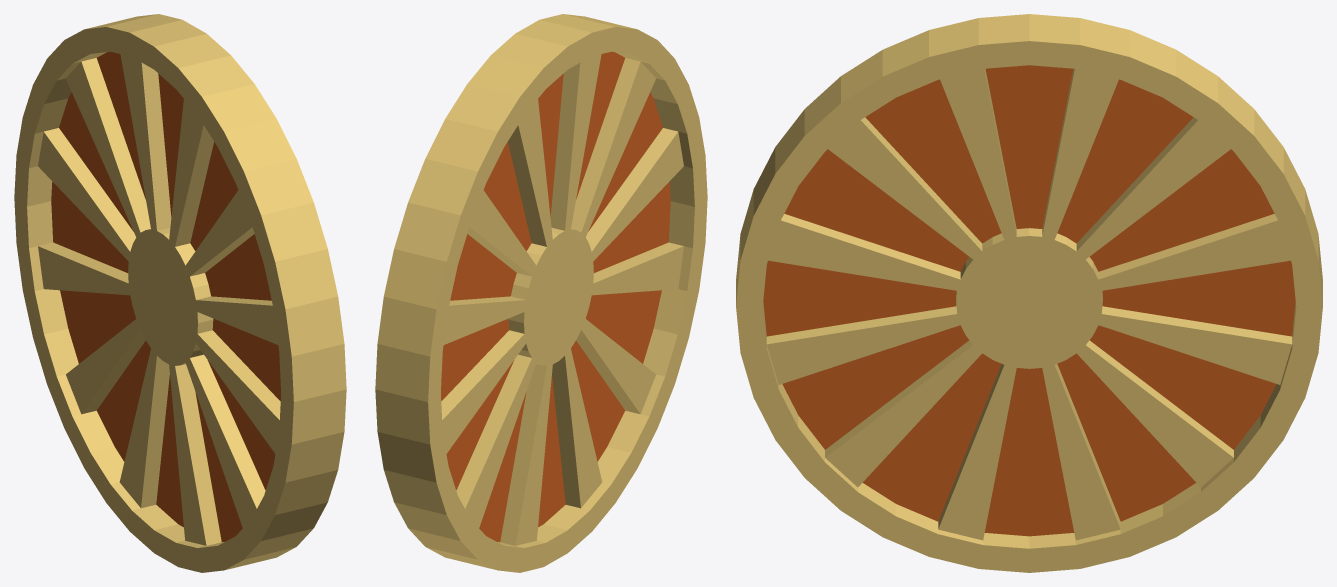
The picture shows the model from 3 angles, left to right: view 1: azimuth 30°, elevation 25°; view 2: azimuth 150°, elevation 25°; view 3: azimuth 270°, elevation 25°; orthographic projection. The views are drawn at different scales.
Visible parts, largest first — view 1: 50; view 2: 50; view 3: 50.
Boxes of the visible parts, box(x1,y1,x2,y2) form: 50: box(14, 14, 346, 572); 50: box(375, 14, 707, 572); 50: box(736, 14, 1322, 572).
Size of the model in its own units: 21.8 by 200 by 200.
